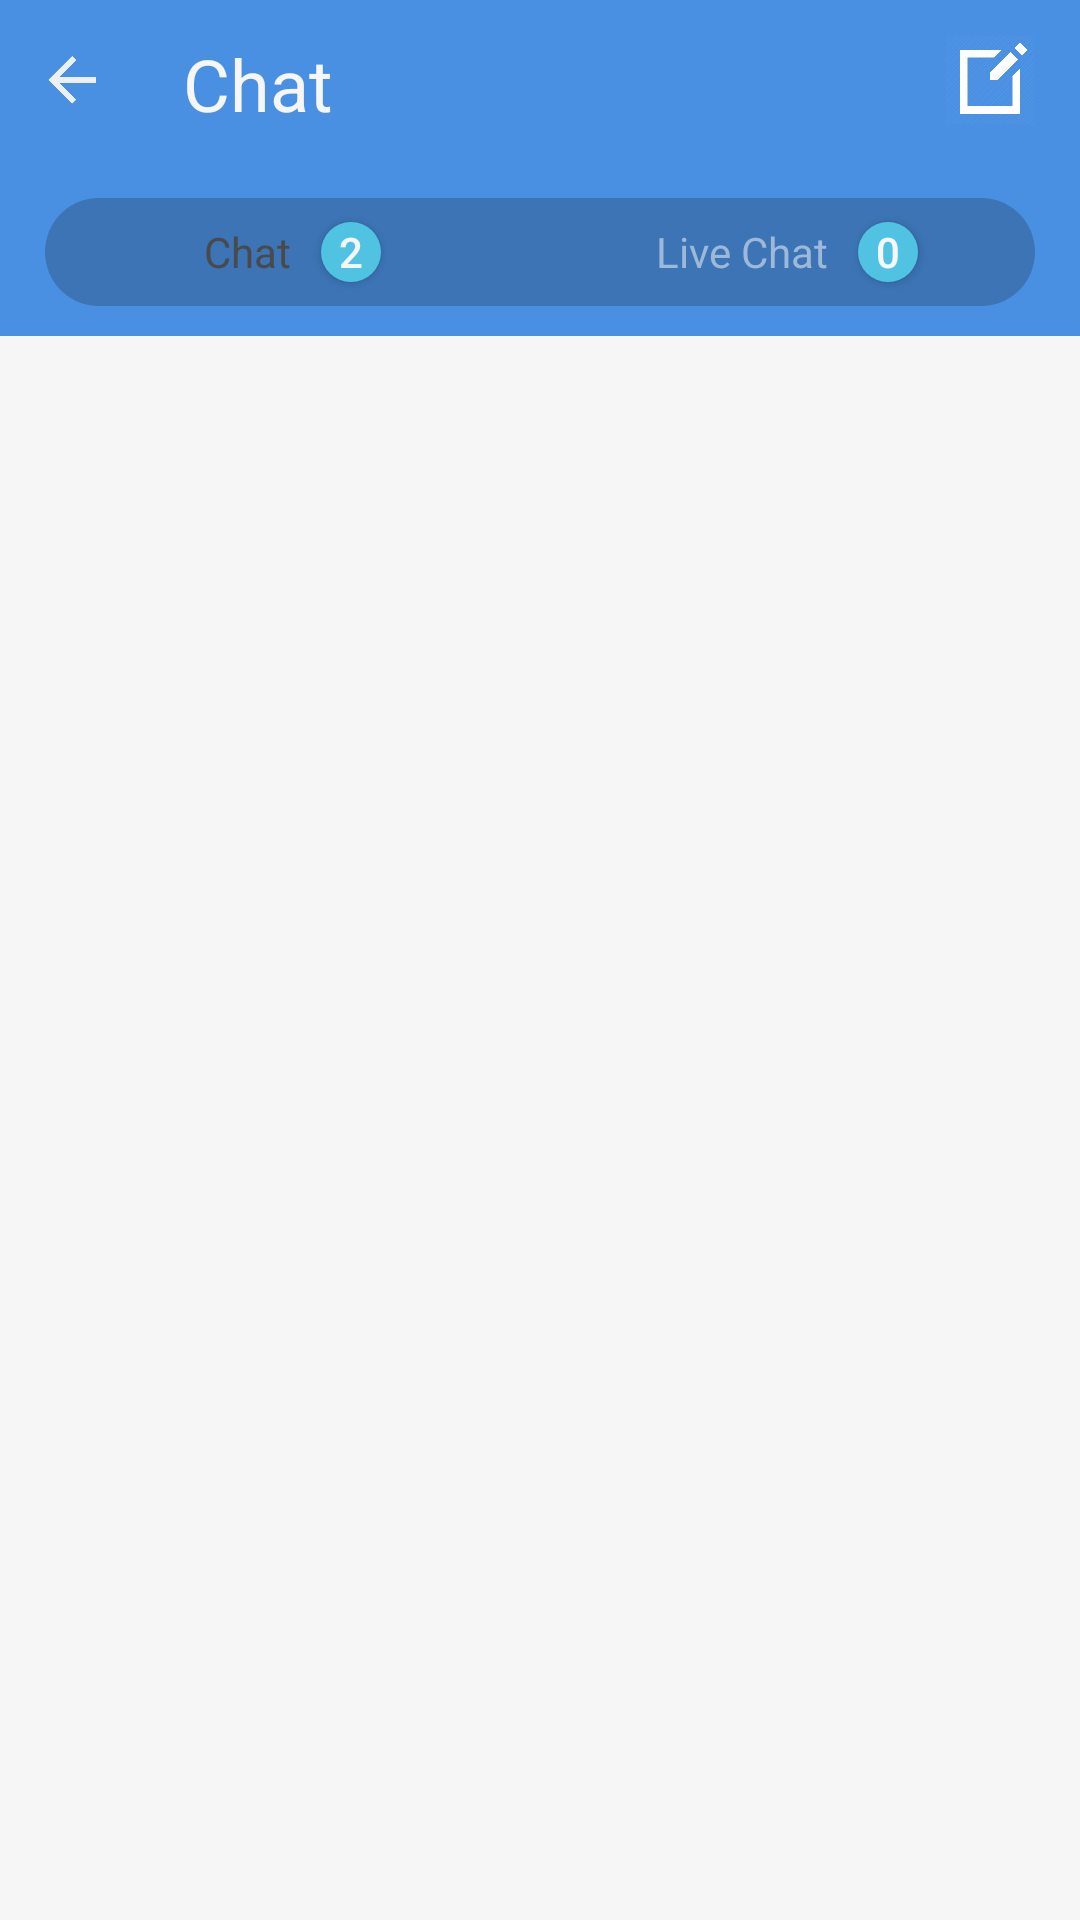

Icons on this 1080 x 1920 Android screen, each with the point to tap as (x,y):
go back: (72,79)
write message: (993,78)
